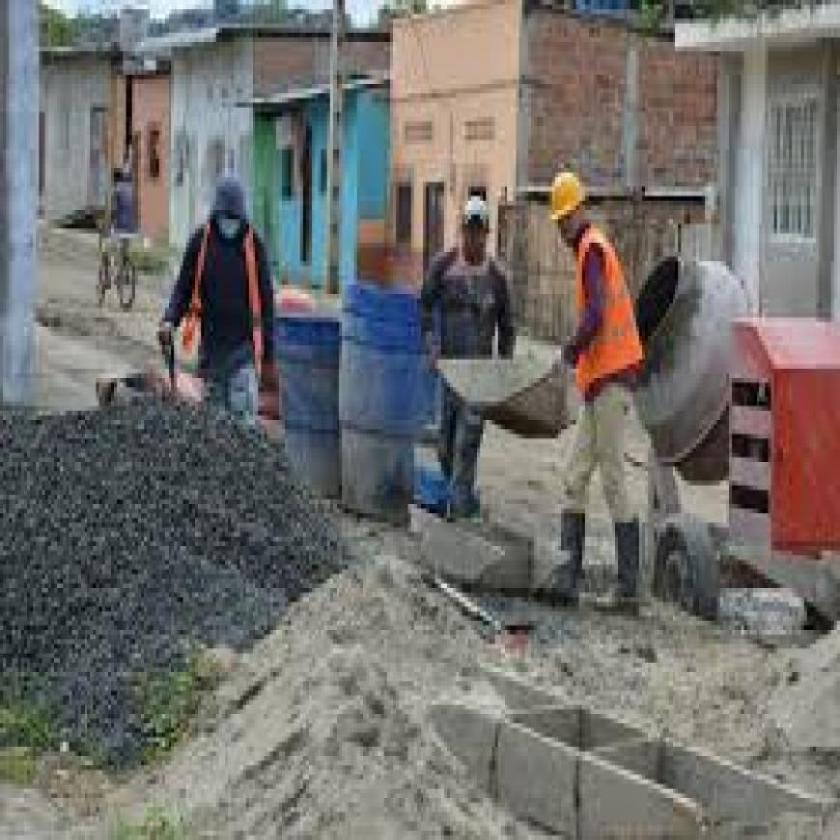Con_casco: (544, 171, 596, 254)
Sin_casco: (208, 173, 248, 246), (457, 190, 494, 266)
